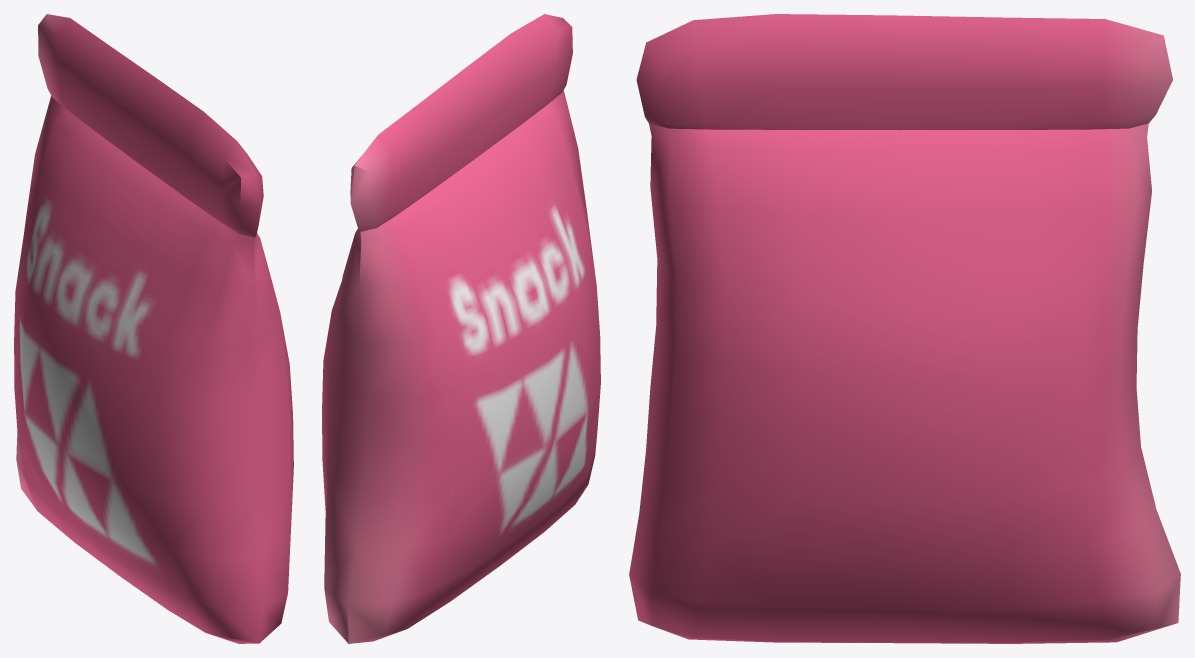
The model's file is Snack04.fbx.
The picture shows the model from 3 angles, left to right: view 1: azimuth 30°, elevation 25°; view 2: azimuth 150°, elevation 25°; view 3: azimuth 270°, elevation 25°; orthographic projection. The views are drawn at different scales.
Parts seen in each view (by area): view 1: Snack04; view 2: Snack04; view 3: Snack04.
Boxes of the visible parts, bbox=[...] form: Snack04: bbox=[14, 14, 293, 643]; Snack04: bbox=[322, 14, 600, 643]; Snack04: bbox=[629, 14, 1180, 643].
Bounding box in the file's own units: 0.0539 × 0.1119 × 0.1409.
